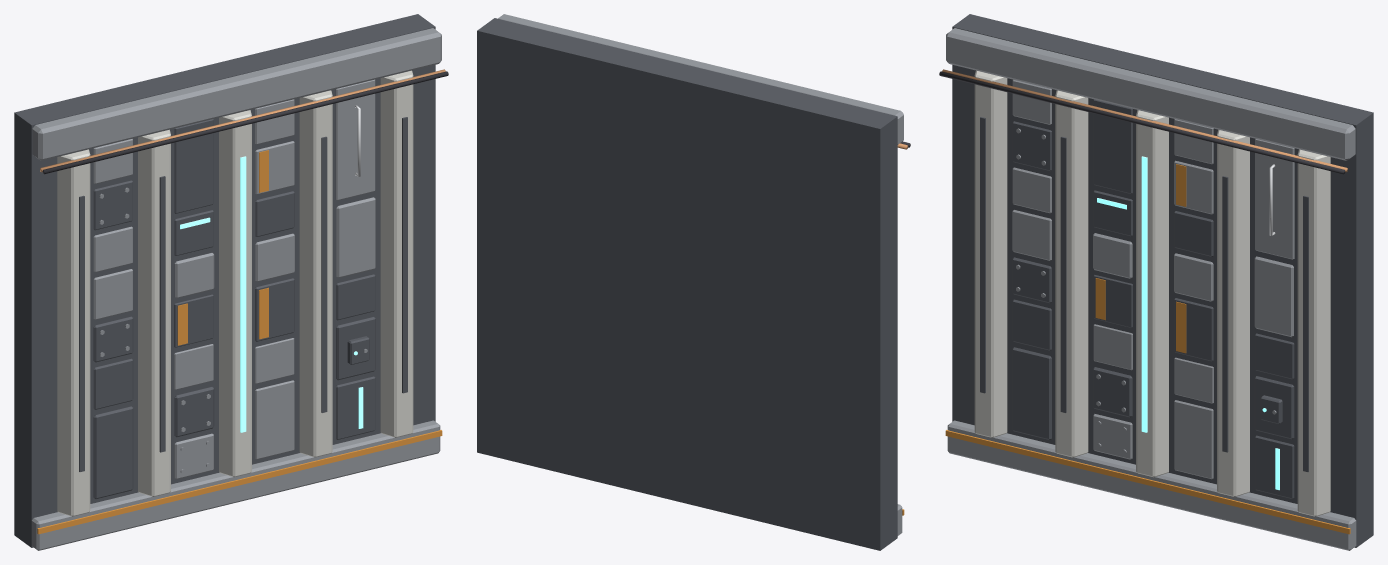
Rendered from wall_ribbed.glb.
3 renders of one model, left to right at view 1: azimuth 30°, elevation 25°; view 2: azimuth 150°, elevation 25°; view 3: azimuth 330°, elevation 25°, orthographic.
Parts seen in each view (by area): view 1: wall_ribbed; view 2: wall_ribbed; view 3: wall_ribbed.
Boxes of the visible parts, box(x1,y1,x2,y2) form: wall_ribbed: box(14, 14, 448, 550); wall_ribbed: box(477, 14, 910, 550); wall_ribbed: box(939, 14, 1373, 550).
Bounding box in the file's own units: 4 × 4 × 0.525.
